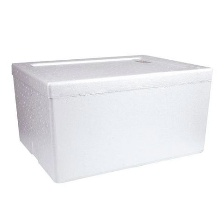foam_box: (7, 49, 217, 186)
